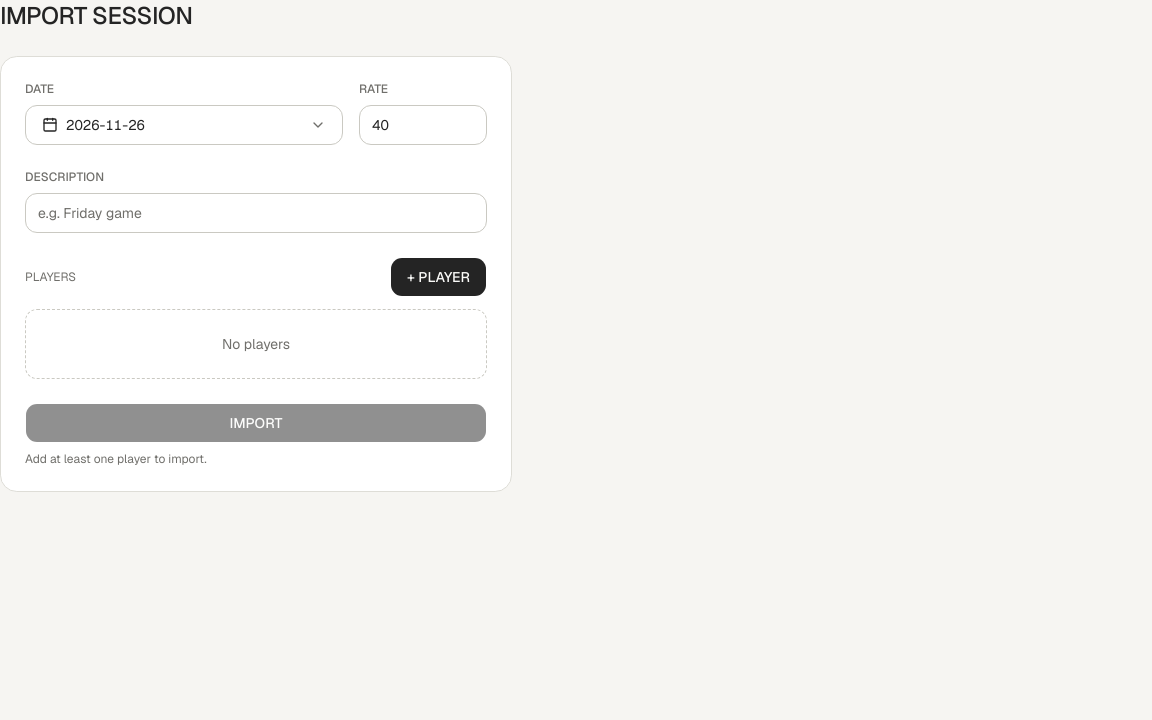
it: disables empty imports and restores the empty state after the last player is removed
This screenshot has width=1152, height=720.
expect the button "IMPORT" is disabled: met, box [25,403,487,443]
expect the text "No players" is shown: met, box [25,309,487,379]
Click the button "+ PLAYER" at (439, 277), box [390,257,487,297]
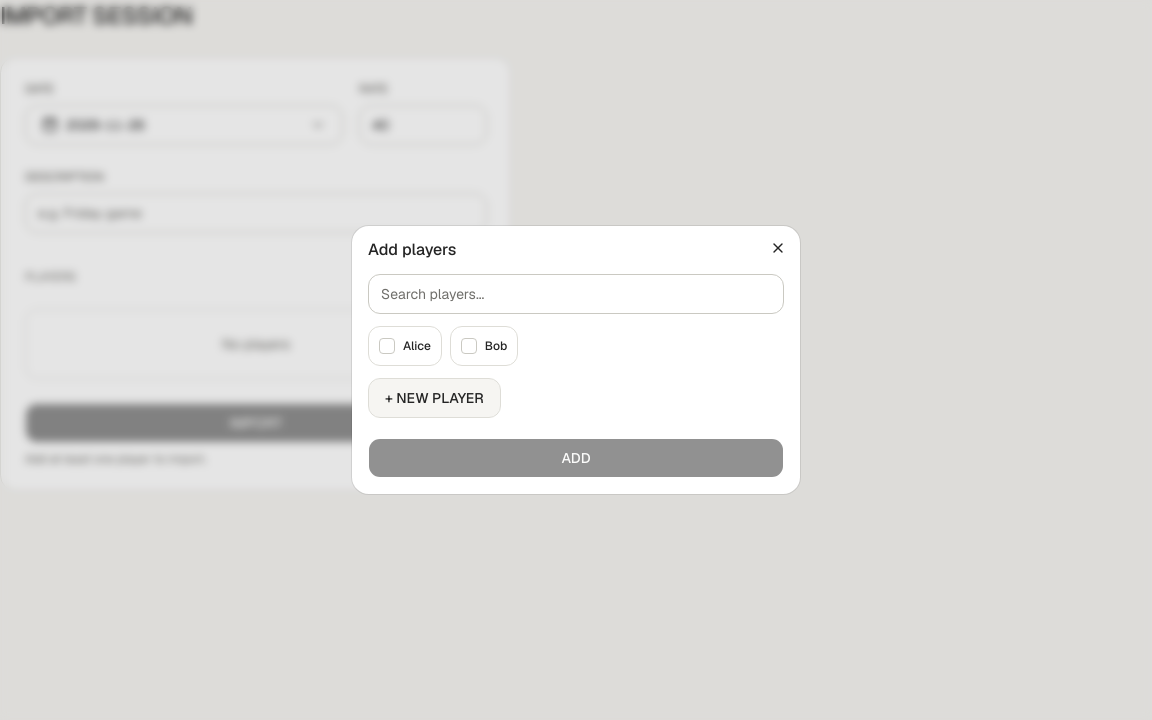
Click the checkbox named "Alice" next to "Alice" at (387, 346), box [379,338,395,354]
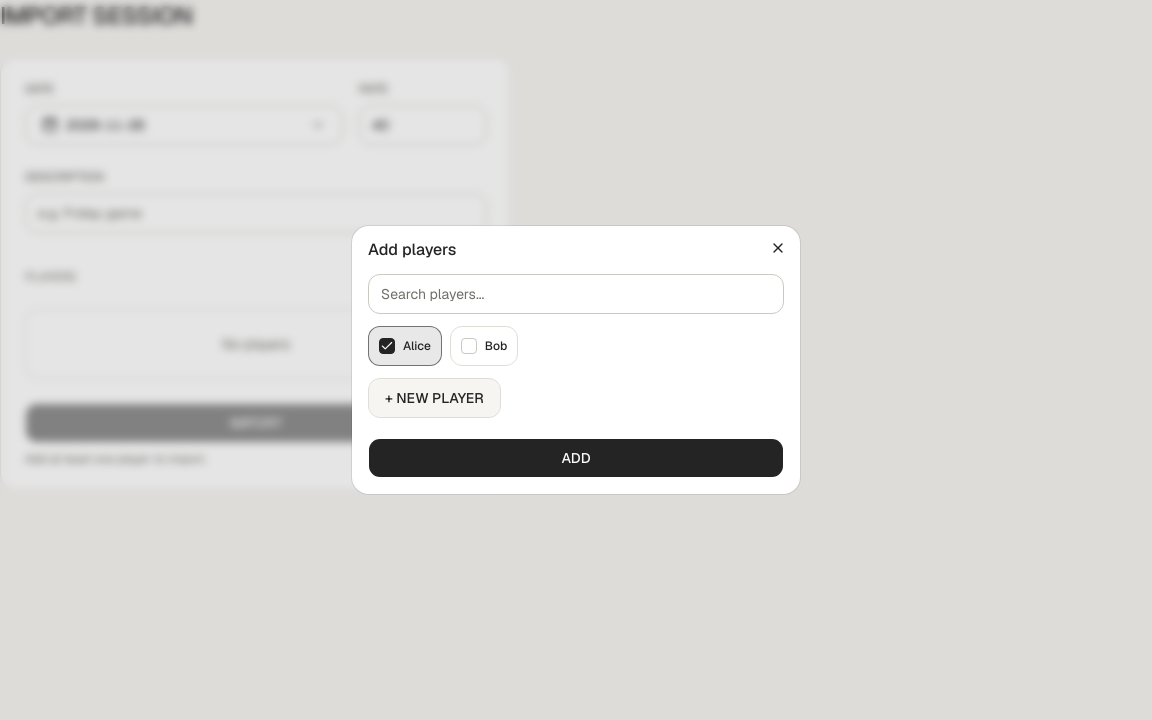
Click the button "ADD" at (576, 458), box [368,438,784,478]
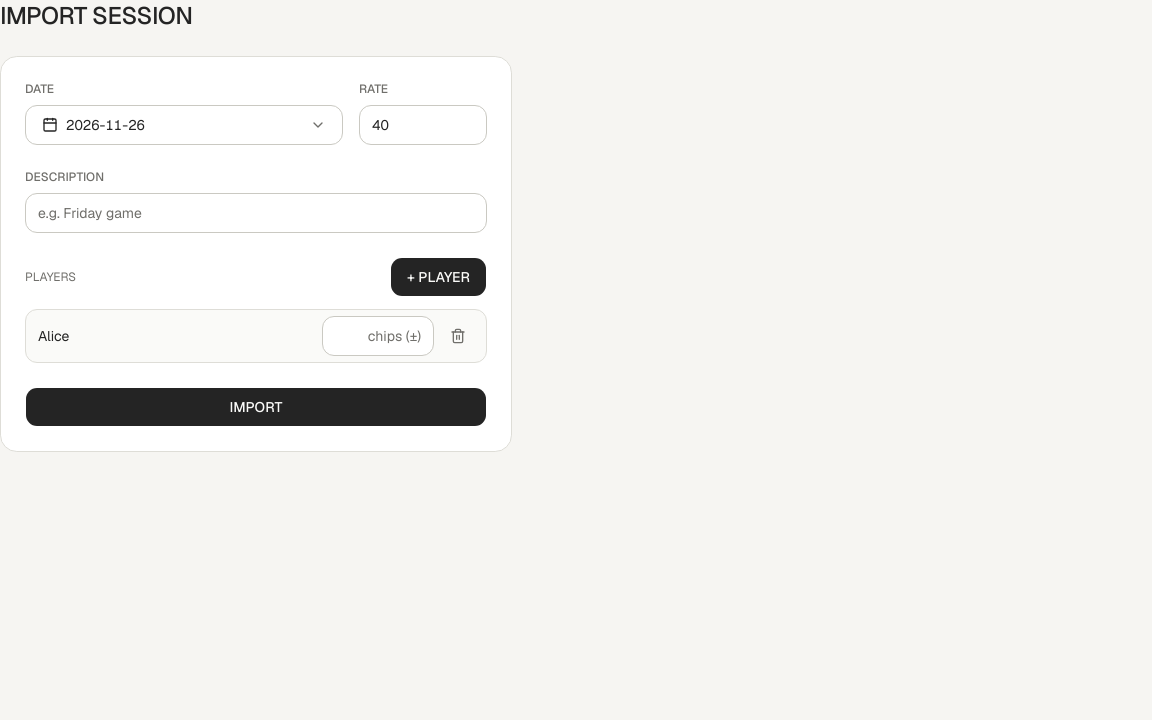
expect the dialog is gone: met
expect the text "No players" is gone: met
Click the button named "remove Alice" at (458, 336), box [442,320,474,352]
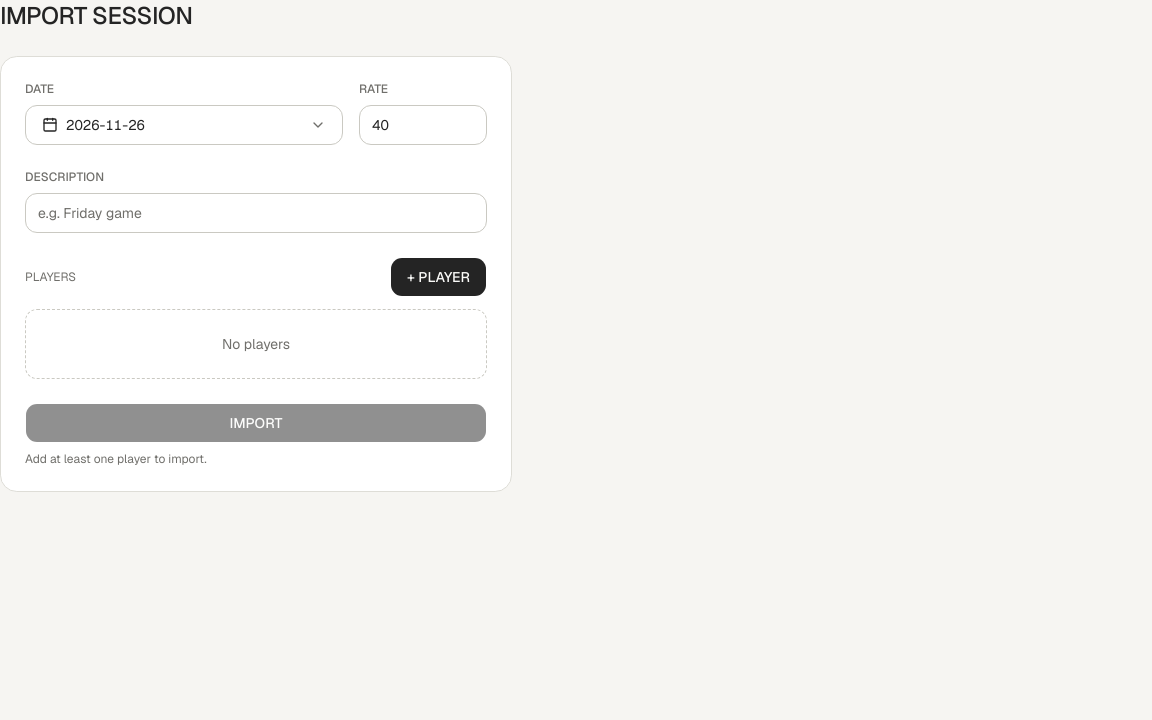
expect the button "IMPORT" is disabled: met, box [25,403,487,443]
expect the text "No players" is shown: met, box [25,309,487,379]
expect the text "Add at least one player to import." is shown: met, box [25,451,207,467]
